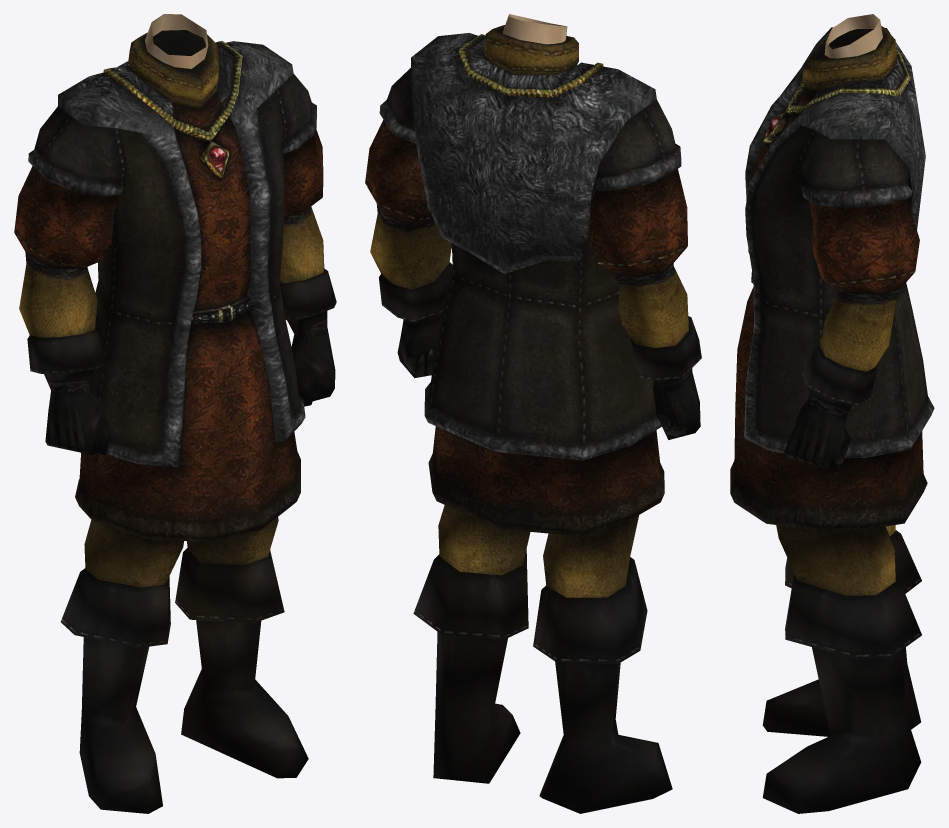
The model's file is KM_RICH_MERCHANT_NOHAT_01.glb.
3 renders of one model, left to right at view 1: azimuth 30°, elevation 25°; view 2: azimuth 150°, elevation 25°; view 3: azimuth 270°, elevation 25°, orthographic. The views are drawn at different scales.
Visible parts, largest first — view 1: KM_RICH_MERCHANT_NOHAT_01; view 2: KM_RICH_MERCHANT_NOHAT_01; view 3: KM_RICH_MERCHANT_NOHAT_01.
Part boxes in pixels (box(x1,y1,x2,y2)): KM_RICH_MERCHANT_NOHAT_01: box(14, 14, 336, 813); KM_RICH_MERCHANT_NOHAT_01: box(365, 14, 701, 813); KM_RICH_MERCHANT_NOHAT_01: box(730, 14, 934, 813).
Bounding box in the file's own units: 0.7073 × 1.7 × 0.4225.
Materials: 2 (2 with a texture image).
